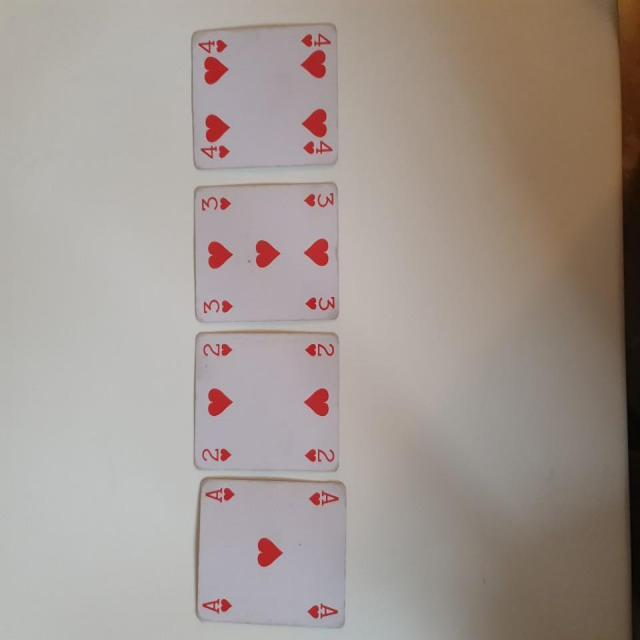2 Hearts: (186, 322, 343, 477)
3 Hearts: (186, 179, 343, 326)
4 Hearts: (187, 21, 342, 170)
A Hearts: (194, 473, 351, 630)
